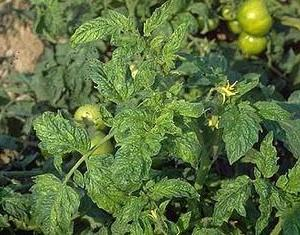Tomato leaf yellow virus: (21, 171, 81, 235), (110, 120, 161, 191), (215, 93, 262, 168), (29, 108, 91, 160), (158, 111, 210, 170), (141, 171, 202, 209), (65, 15, 129, 49), (212, 174, 253, 225)
